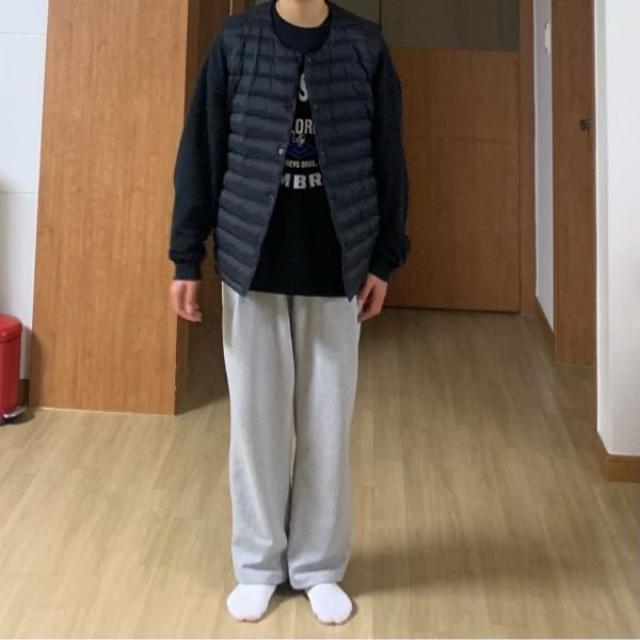mtm: (166, 0, 410, 295)
padding: (217, 1, 381, 300)
trainingpants: (223, 277, 361, 590)
